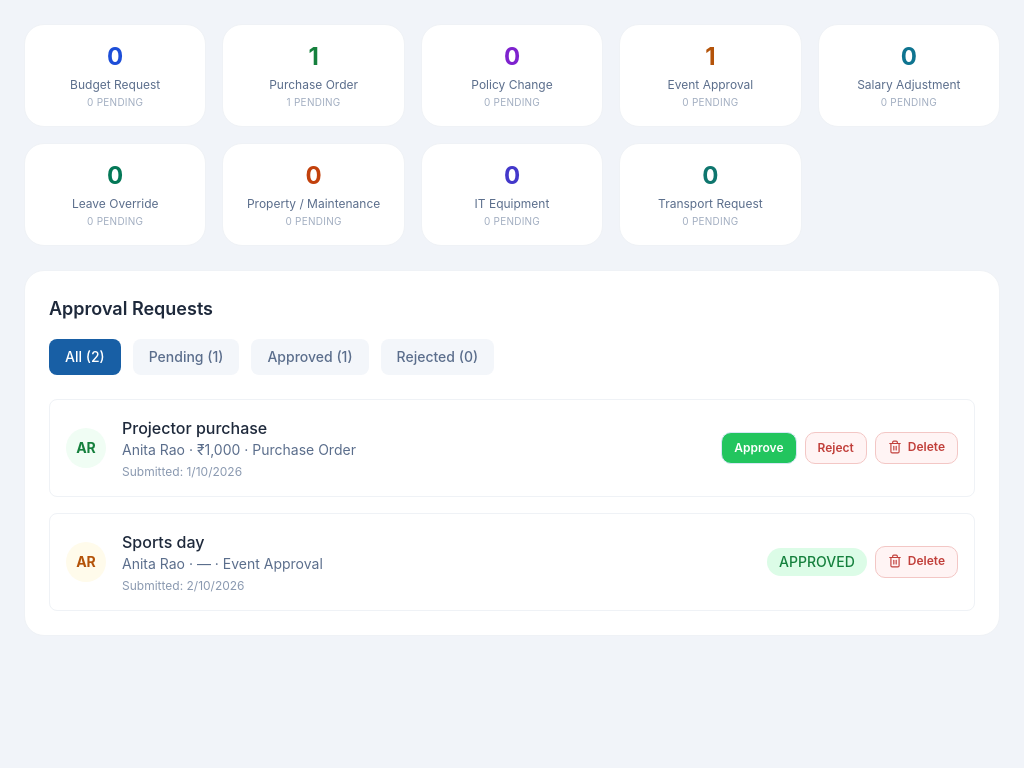
Approval Requests delete › shows the backend error and keeps the request on failure
Expected: the text "Projector purchase" is shown, [122, 418, 267, 438]
Click the button with aria-label "Delete approval request": (916, 448) [875, 432, 958, 464]
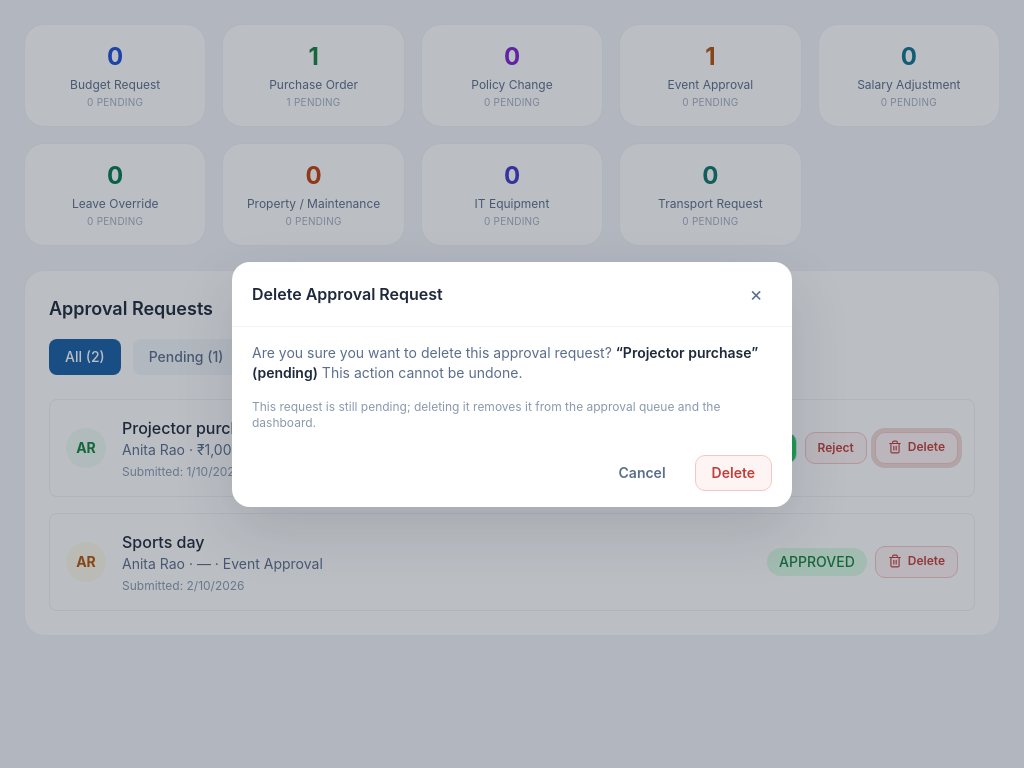
Click the button "Delete": (733, 472) [695, 454, 772, 490]
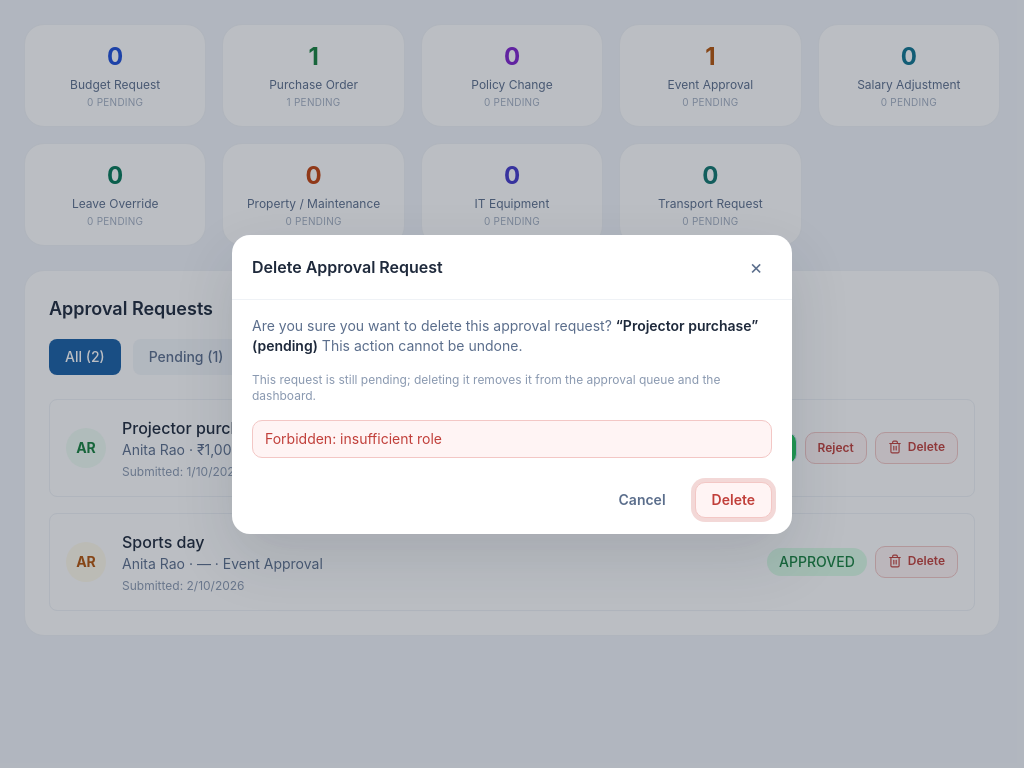
Expected: the text "Projector purchase" is shown, [122, 418, 267, 438]
Now the message reads "Forbidden: insufficient role", box [265, 430, 442, 446]
